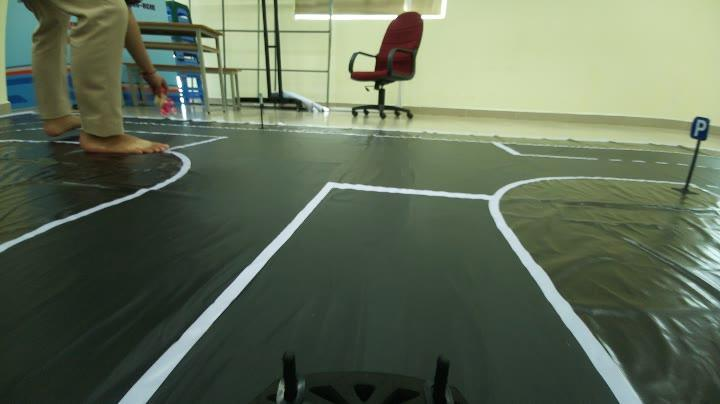parking: (688, 112, 712, 143)
